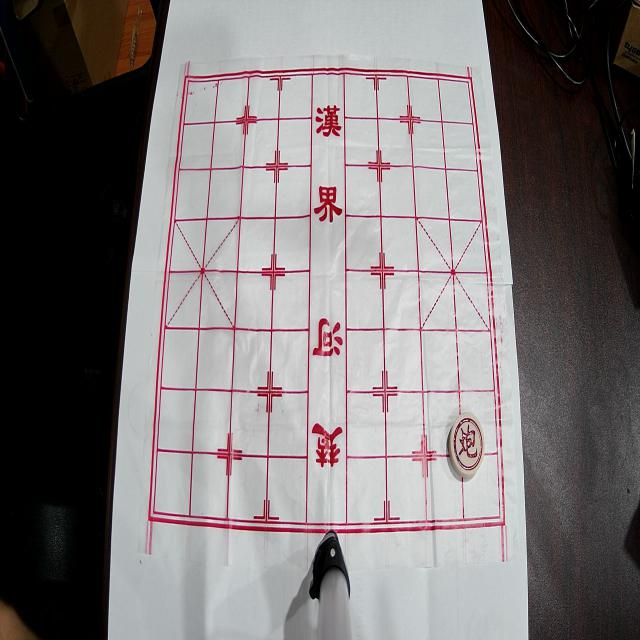red-cannon: (449, 412, 485, 478)
